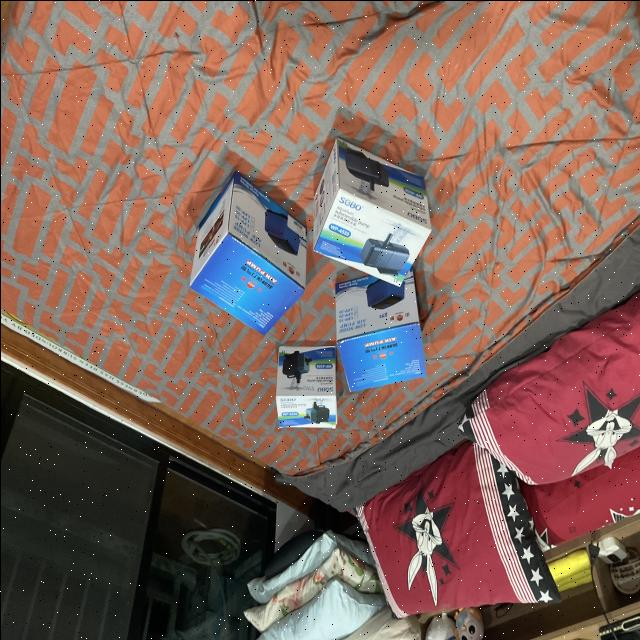SOBO_WP_4200: (301, 136, 438, 294), (262, 346, 340, 448)
YAMANO_LPP_20: (177, 169, 310, 353), (325, 264, 435, 394)
